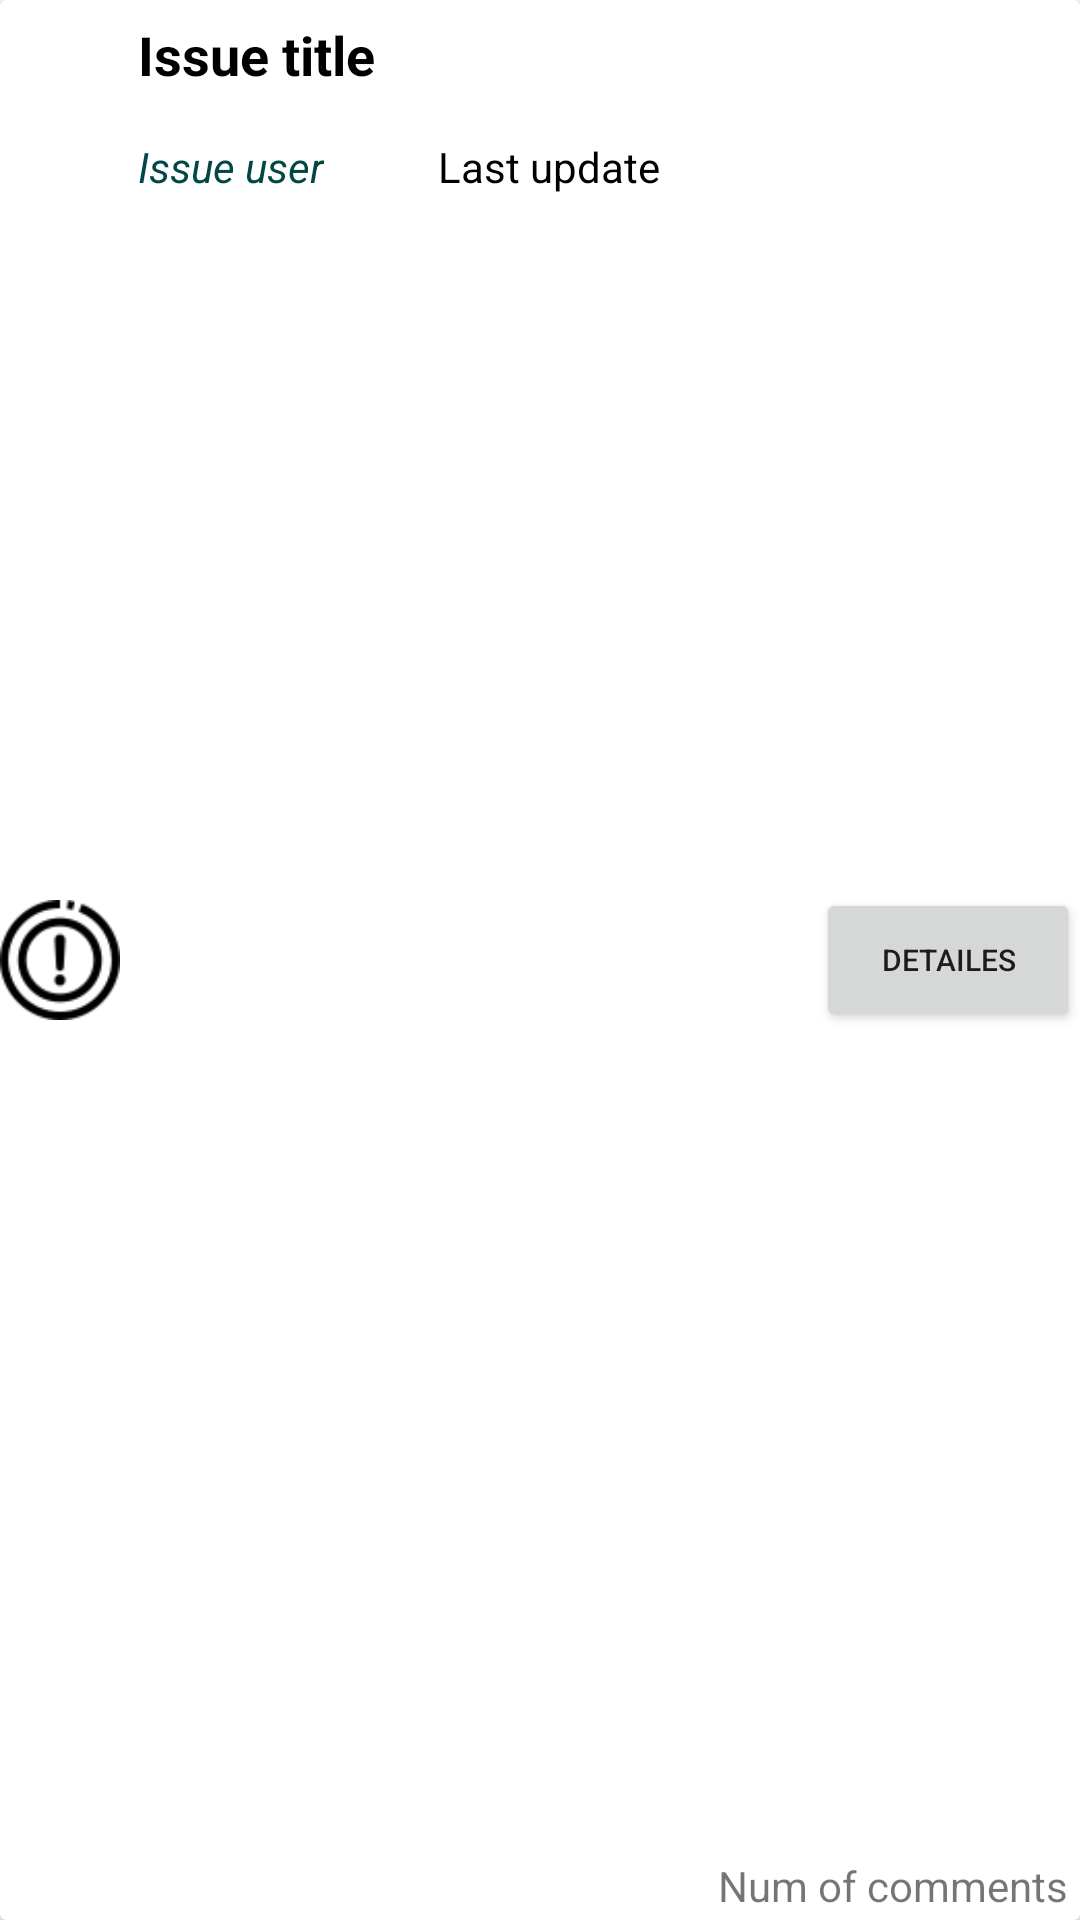

Where to tap for icons on this 1080 x 1920 app screen, as point (x, y):
issue: point (60, 960)
